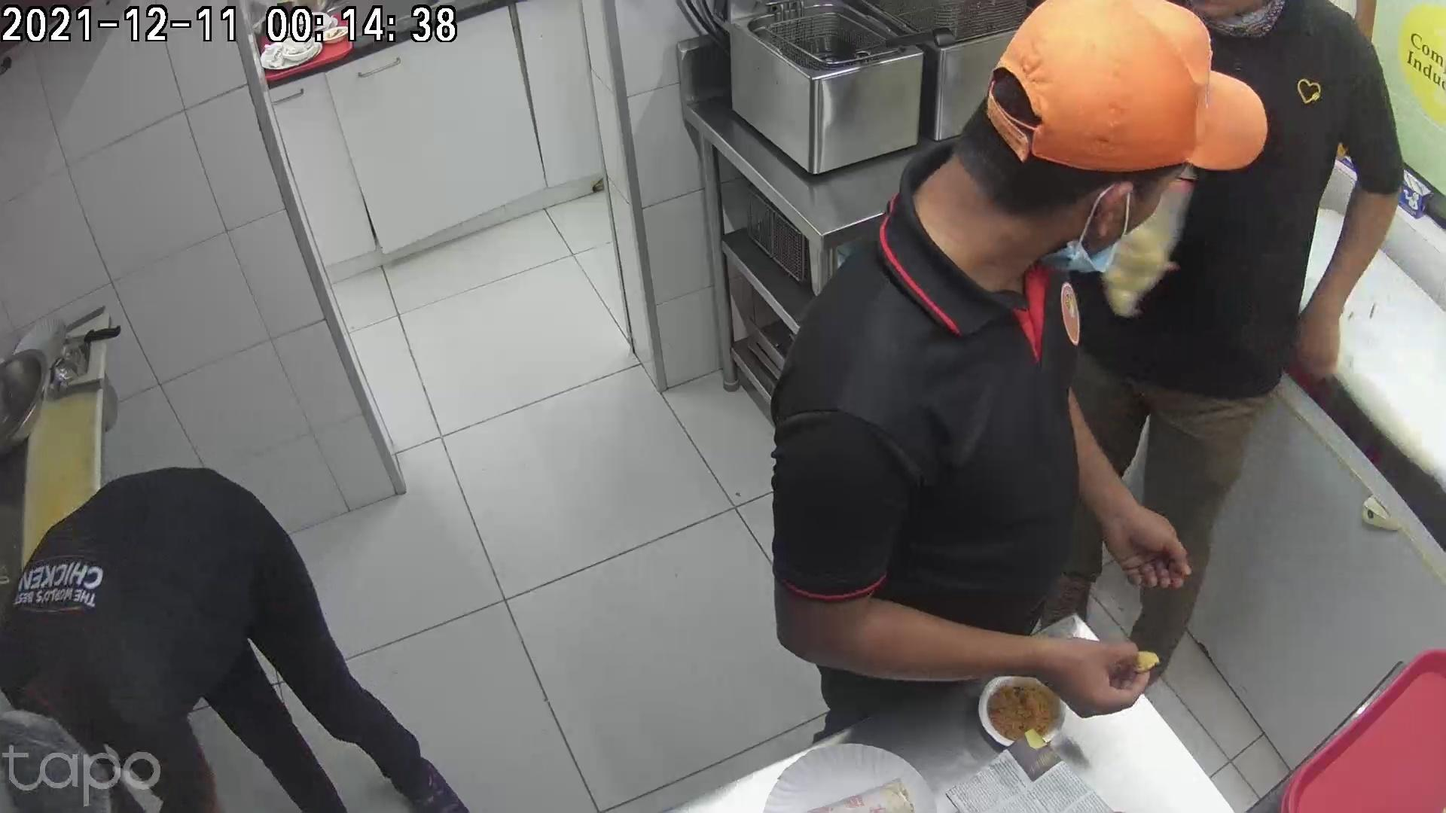gloves: (871, 613, 989, 747)
no_gloves: (1028, 594, 1116, 711)
